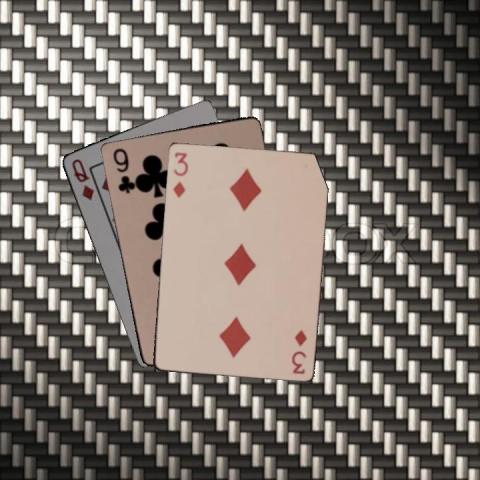3d: (170, 149, 189, 199), (289, 326, 308, 374)
9c: (109, 145, 133, 194)
Qd: (68, 156, 95, 202)
